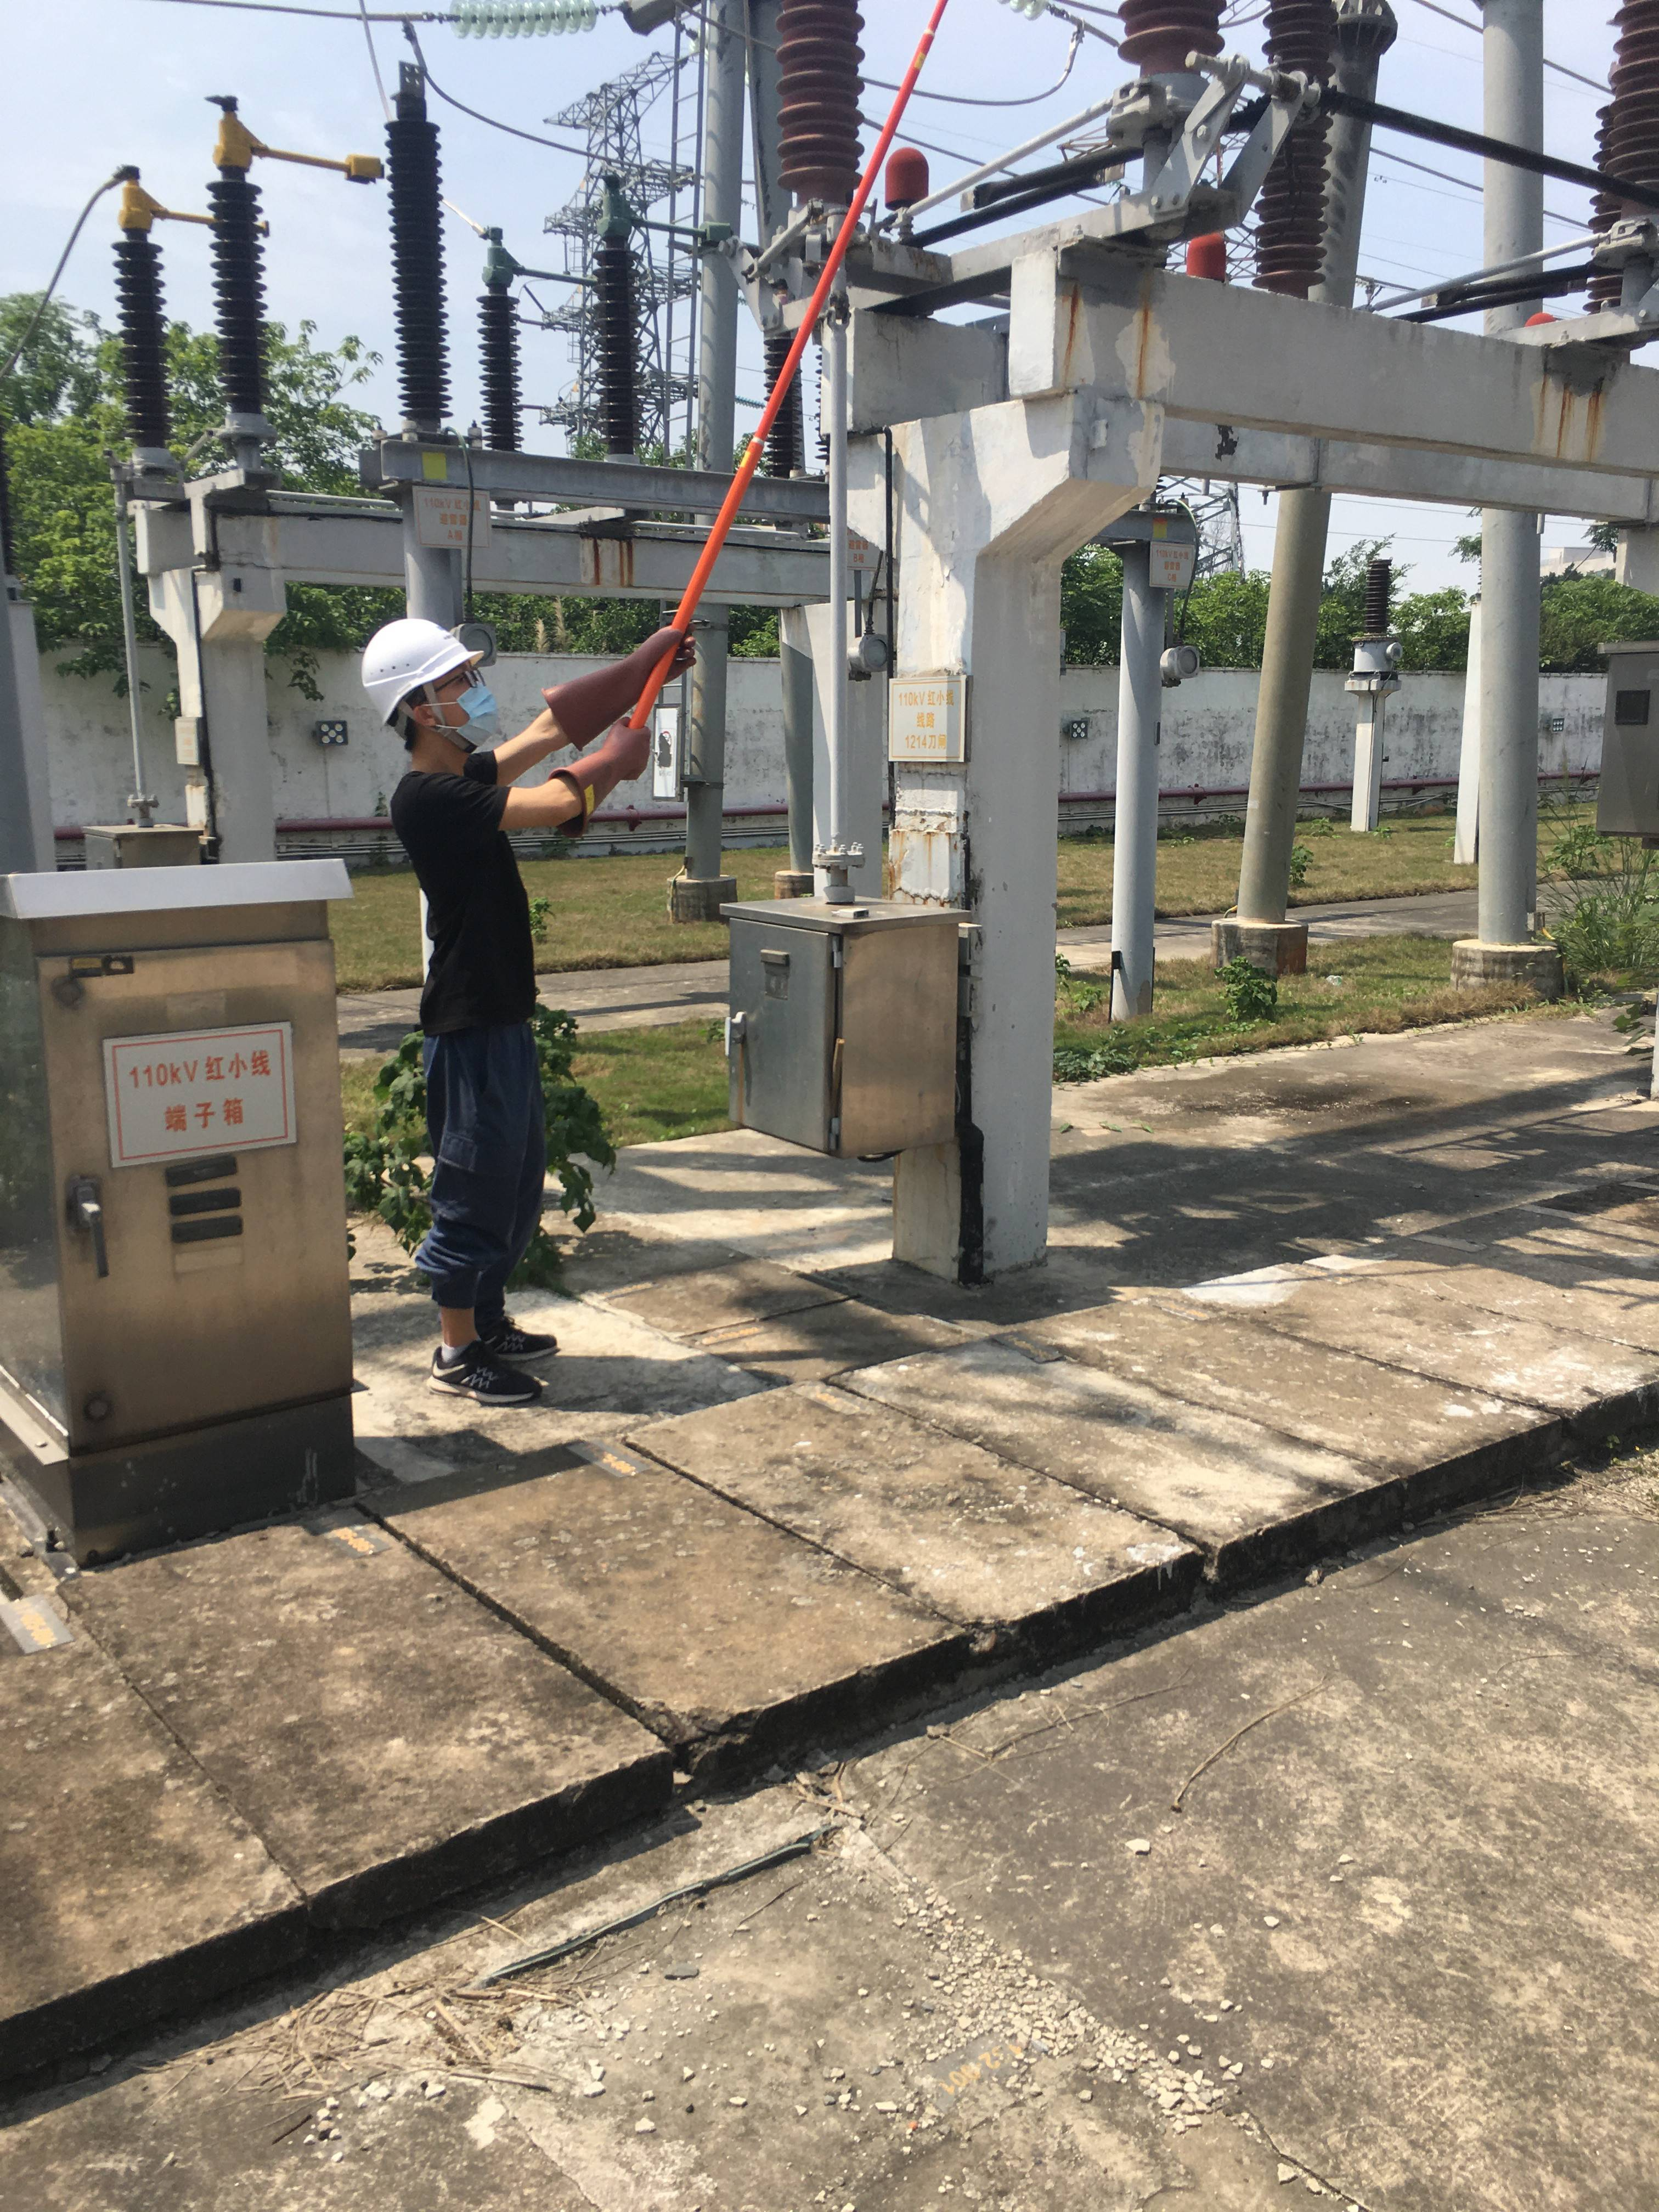downsuit: (403, 1043, 526, 1284)
upcloth: (390, 779, 537, 1024)
wrongbottom: (408, 1226, 481, 1346)
